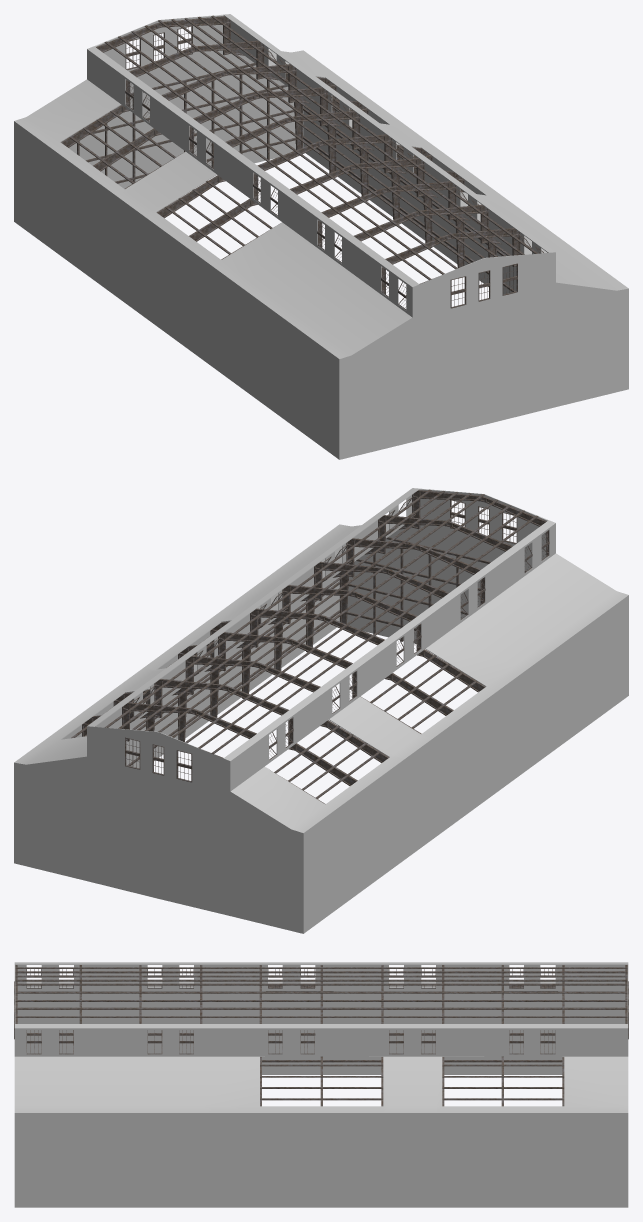
Rendered from Hangar.FBX.
3 views of the same model, one above another, from view 1: azimuth 30°, elevation 25°; view 2: azimuth 150°, elevation 25°; view 3: azimuth 270°, elevation 25° (orthographic). The views are drawn at different scales.
Parts seen in each view (by area): view 1: Hangar; view 2: Hangar; view 3: Hangar.
Boxes of the visible parts, box(x1,y1,x2,y2) form: Hangar: box(14, 14, 628, 459); Hangar: box(14, 488, 628, 933); Hangar: box(14, 962, 628, 1207).
Size of the model in its own units: 3354 by 1845 by 6544.
